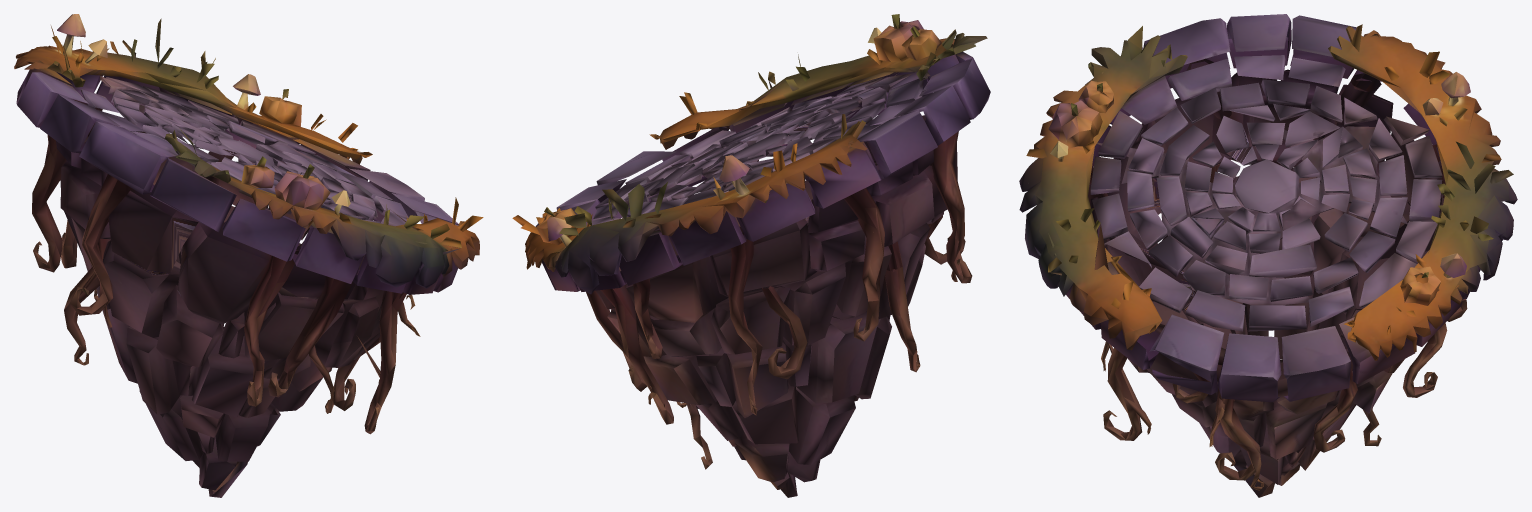
File: L7_FloatIsland_LOD2.fbx
The picture shows the model from 3 angles, left to right: view 1: azimuth 30°, elevation 25°; view 2: azimuth 150°, elevation 25°; view 3: azimuth 270°, elevation 25°; orthographic projection. The views are drawn at different scales.
Visible parts, largest first — view 1: L7_FloatIsland_LOD2; view 2: L7_FloatIsland_LOD2; view 3: L7_FloatIsland_LOD2.
Part boxes in pixels (x1,y1,x2,y2): L7_FloatIsland_LOD2: [14, 14, 483, 497]; L7_FloatIsland_LOD2: [512, 14, 990, 497]; L7_FloatIsland_LOD2: [1019, 14, 1517, 497].
Size of the model in its own units: 5.57 by 6.02 by 6.41.
